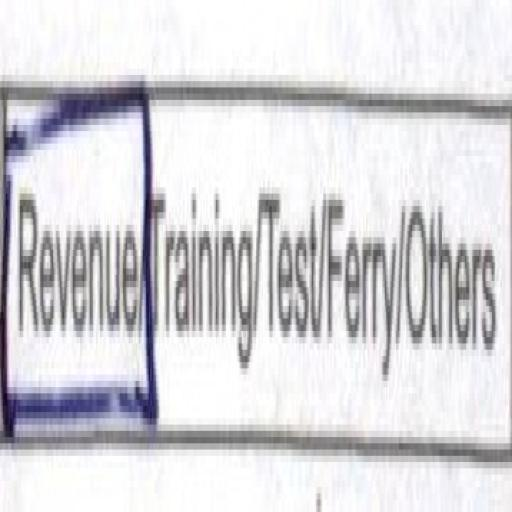check: (0, 26, 151, 485)
